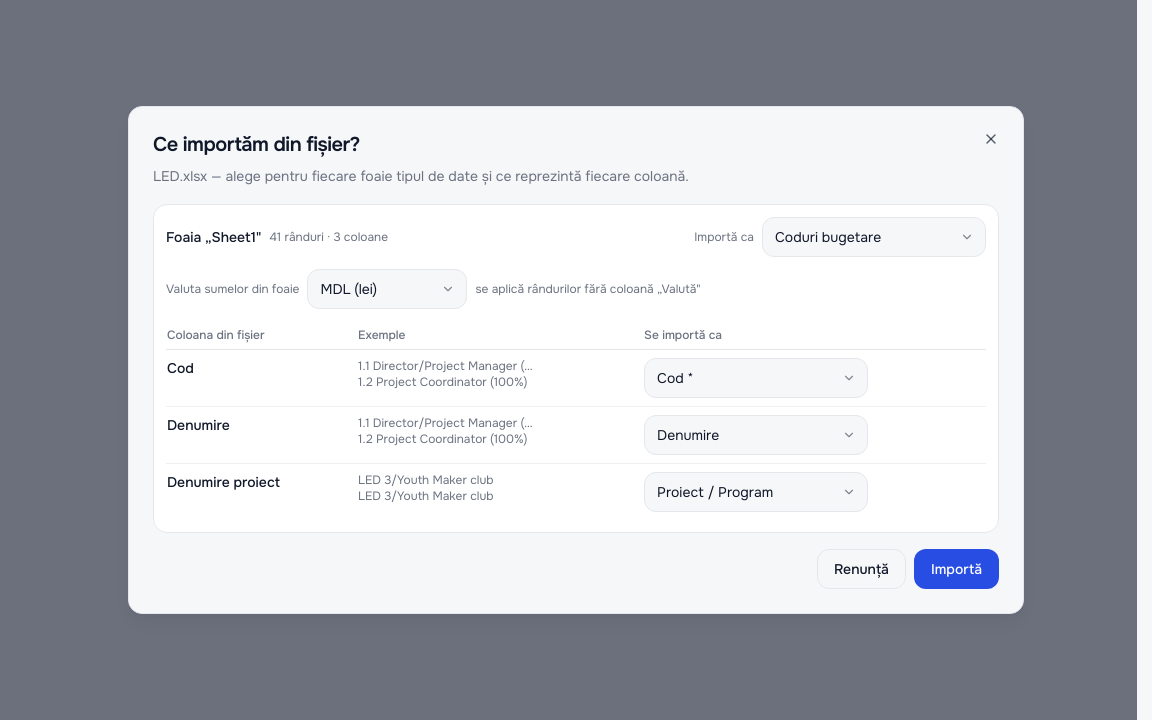
it: ParImportMappingDialog › blocks the import while a required field has no column
Select "— nu importa —" in the dropdown in the row of "Cod". click: x=756, y=378
box: [644,358,868,398]
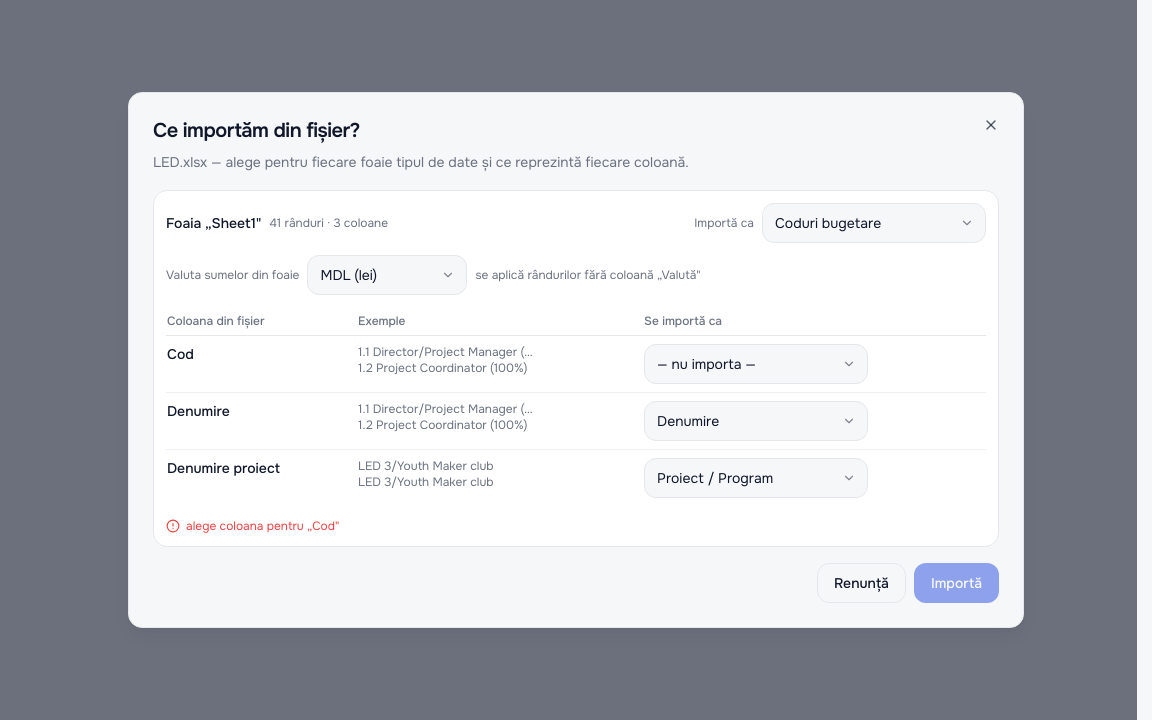
Expected: the button "Importă" is disabled, [914,563,999,603]
Expected: the text "alege coloana pentru „Cod\"" is shown, [166,518,339,534]
